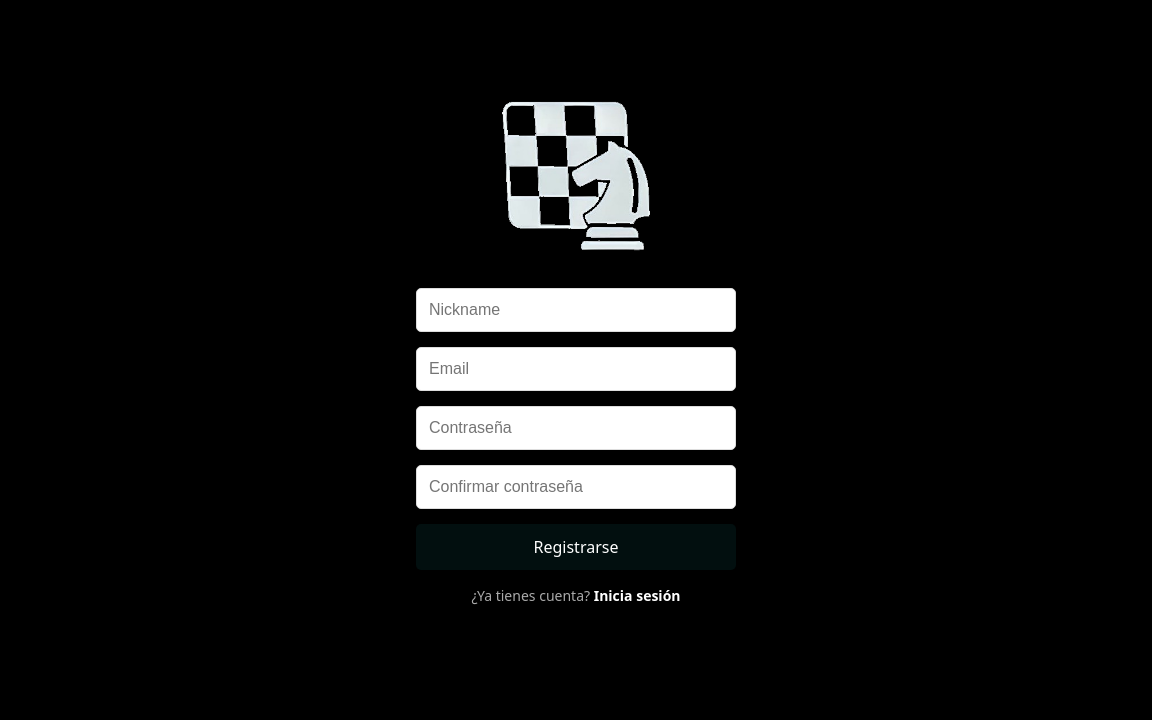
Test: register_shows_error_if_nickname_empty
In the field with placeholder "Email": (576, 369) x1=416 y1=347 x2=736 y2=391, type "i@i.com"
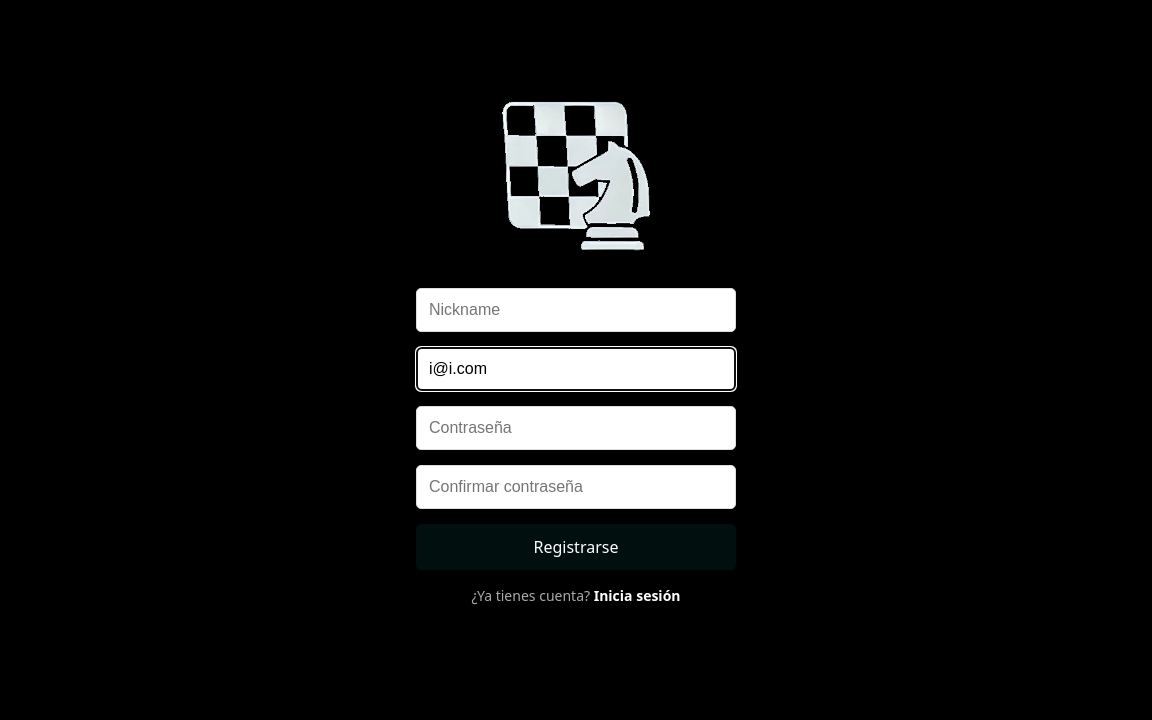
In the password field with placeholder "Contraseña": (576, 428) x1=416 y1=406 x2=736 y2=450, type "Password1!"
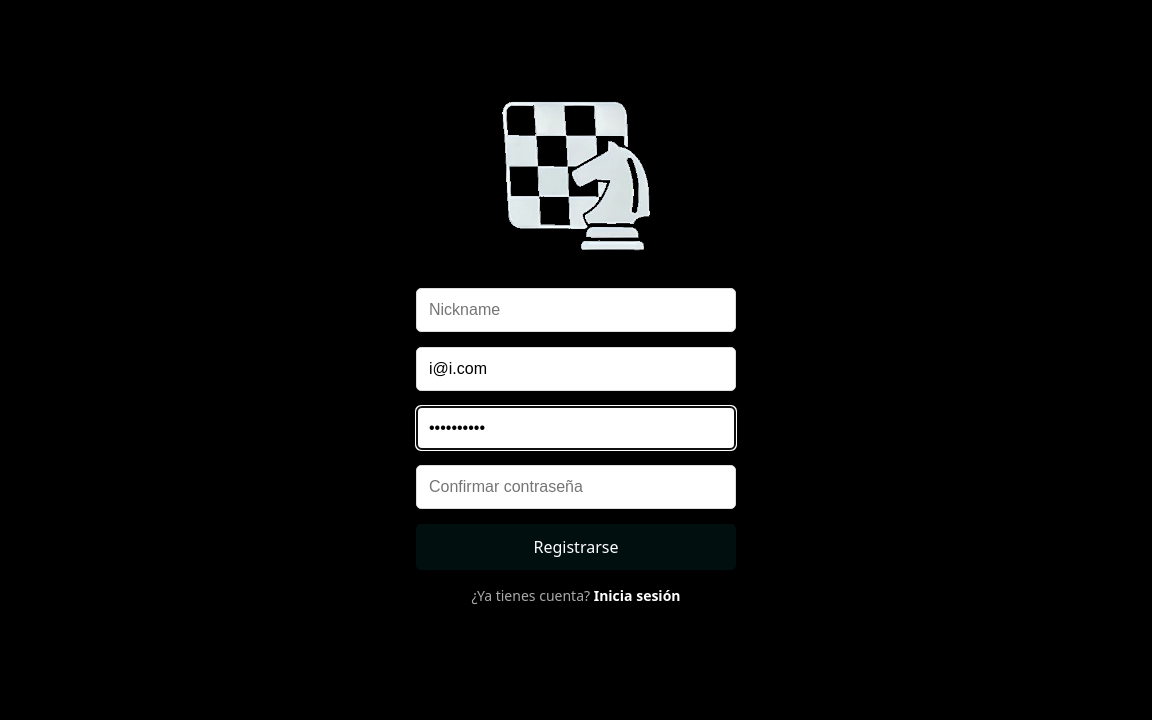
In the password field with placeholder "Confirmar contraseña": (576, 487) x1=416 y1=465 x2=736 y2=509, type "Password1!"
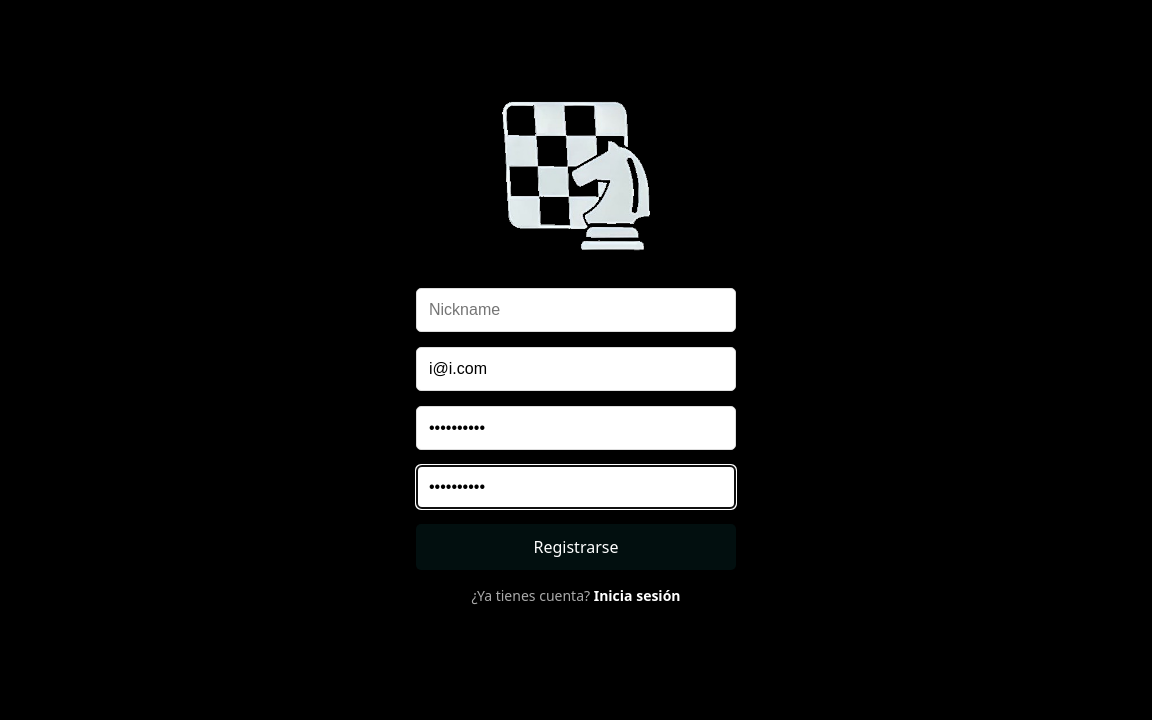
Click the button "Registrarse": (576, 547) x1=416 y1=524 x2=736 y2=570
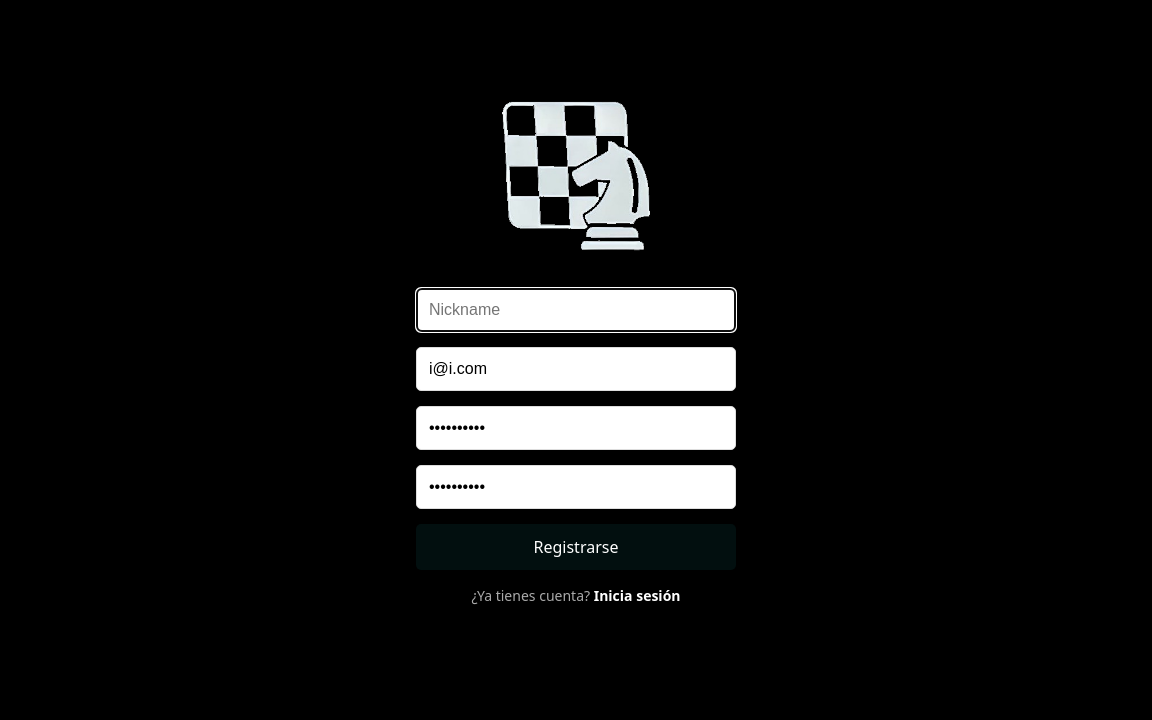
Submit the form named "register-form", box x1=416 y1=100 x2=736 y2=605
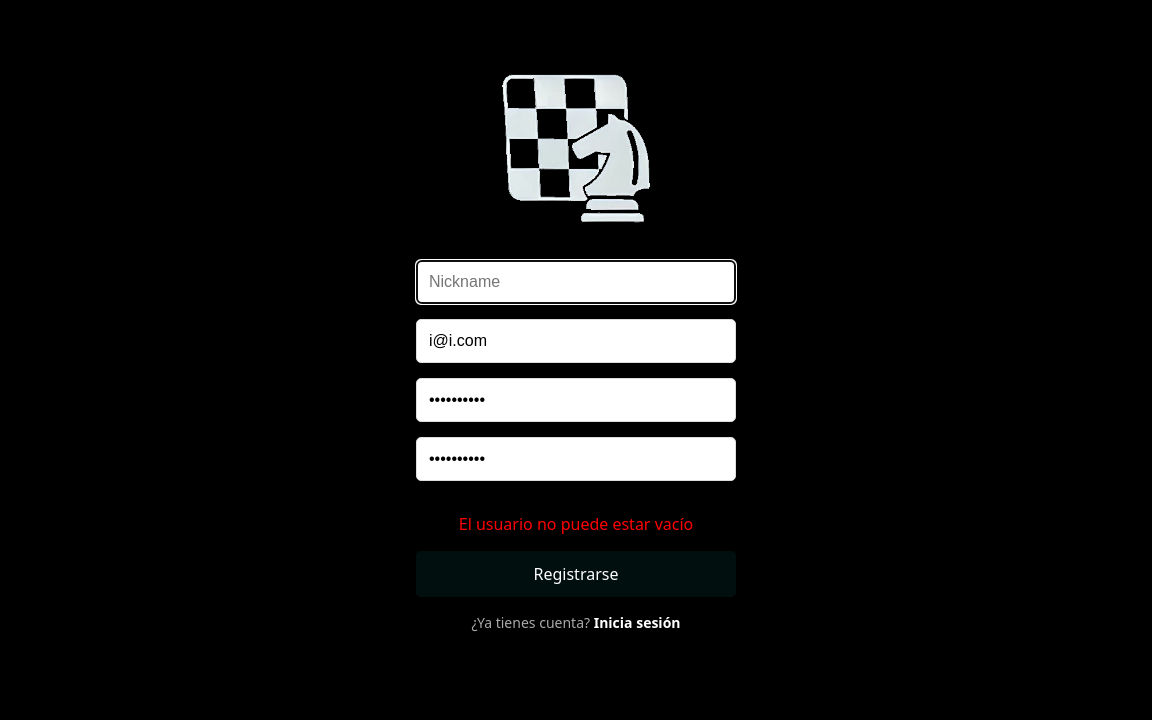
Expected: the text "El usuario no puede estar vacío" is shown, x1=459 y1=513 x2=693 y2=535
